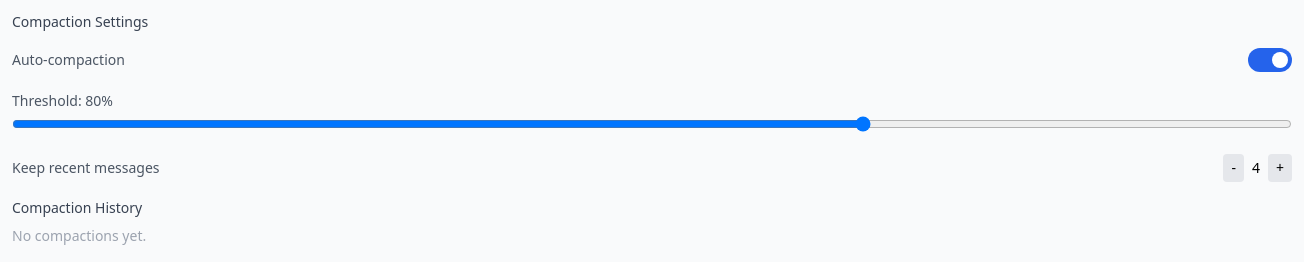
CompactionPanel › clicking + on keep-recent increases value and saves after debounce
Check: the text with test id "keep-recent-value" reads "4", box [1252,158,1260,177]
Click the button with test id "keep-recent-plus": (1280, 168) [1268,154,1292,182]
Wait 600 ms
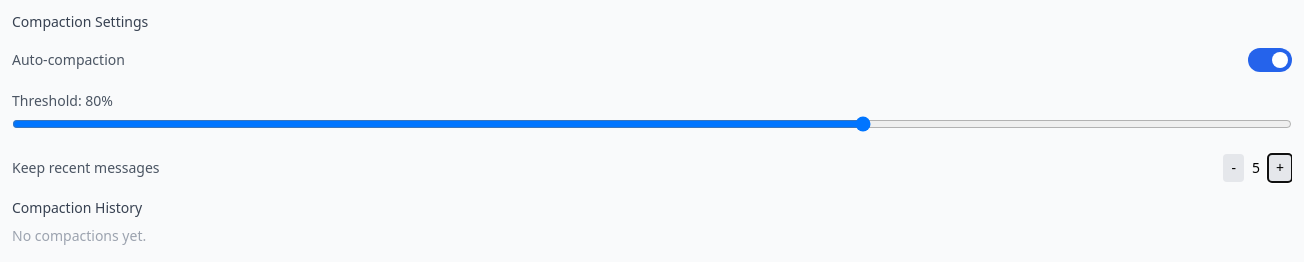
Check: the text with test id "keep-recent-value" reads "5", box [1252,158,1260,177]
